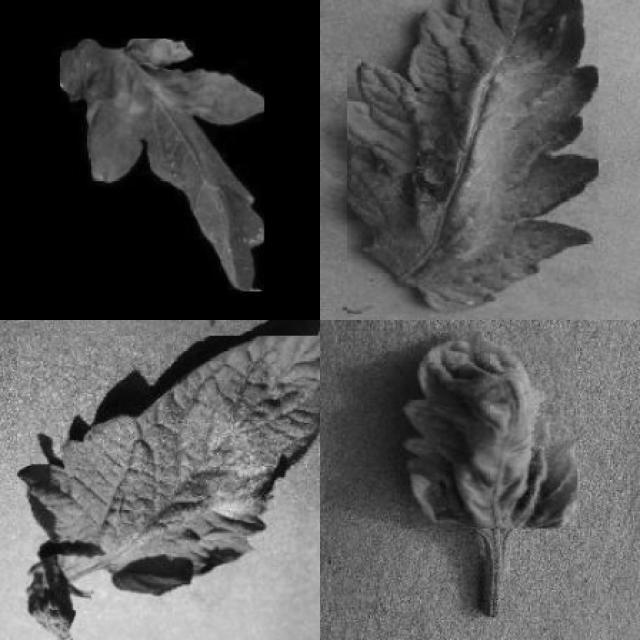Early Blight: (347, 0, 599, 314)
Late Blight: (17, 335, 320, 640), (62, 38, 264, 292)
Yellow Leaf Curl Virus: (400, 328, 577, 528)
